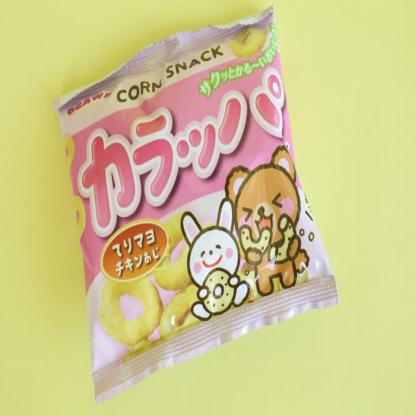potatochip: (49, 0, 346, 415)
